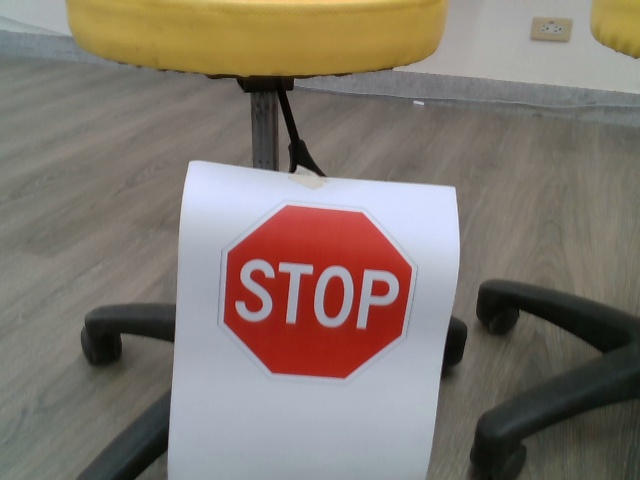stop: (215, 202, 416, 384)
